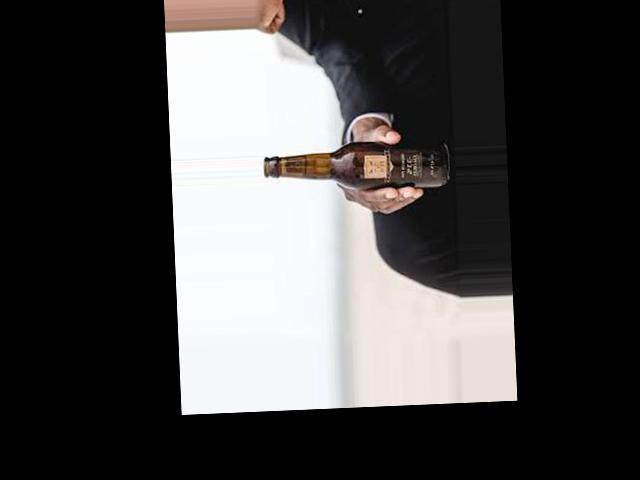beer: (263, 140, 450, 195)
